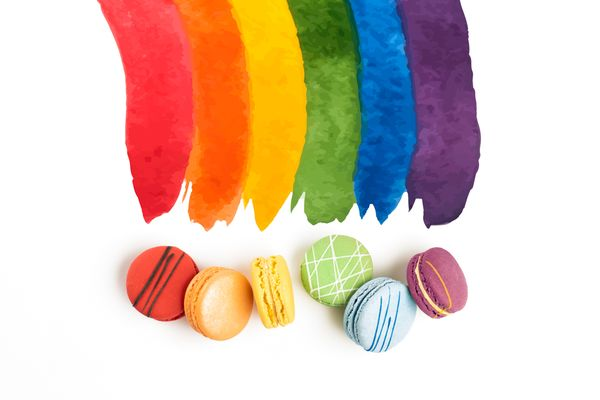pizza: (179, 3, 253, 226)
